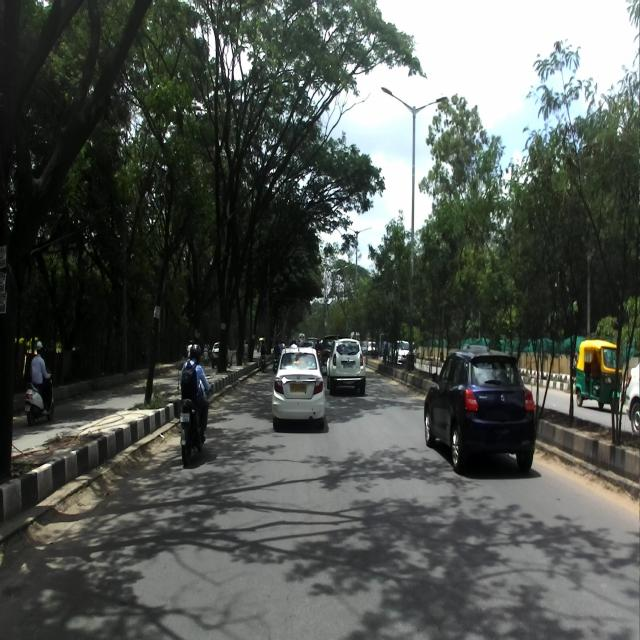Car_Honda: (271, 346, 327, 431)
Car_Maruti-Suzuki: (423, 348, 537, 474)
motorcycle_bajaj: (178, 379, 211, 466)
